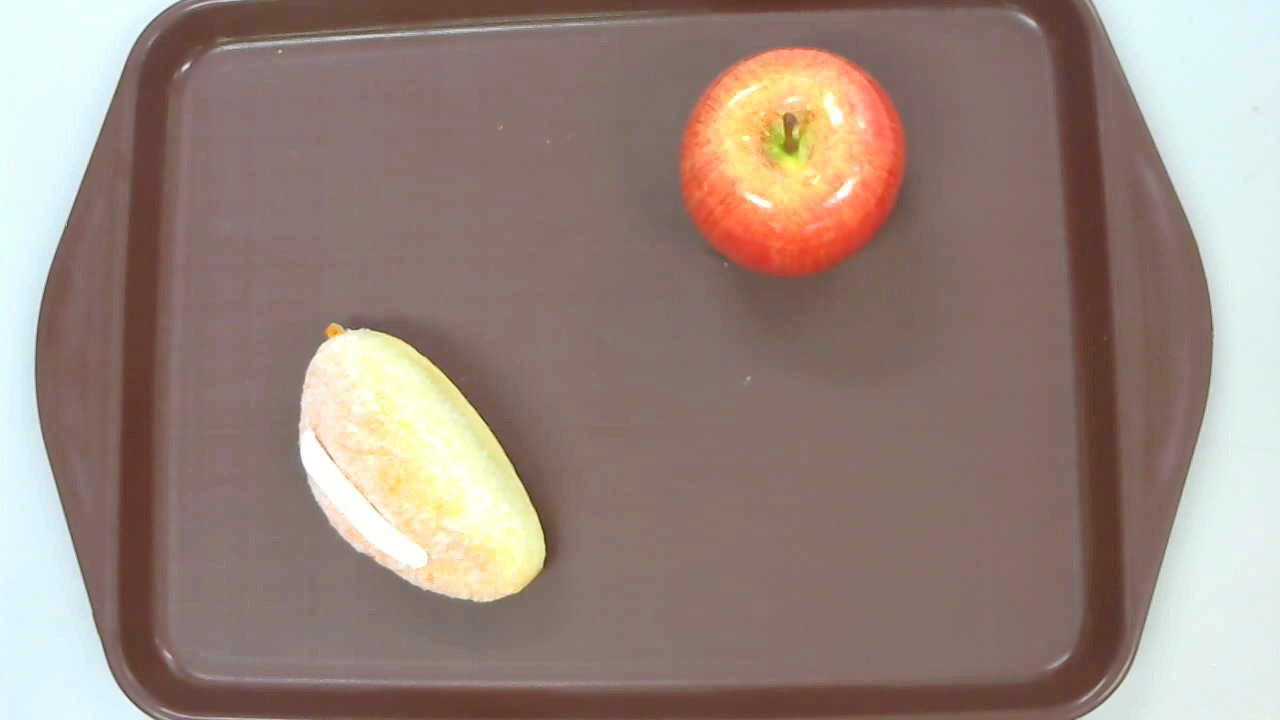coconut: (297, 321, 547, 602)
red apple: (678, 47, 909, 278)
